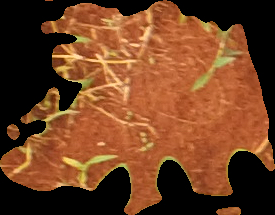soil: (1, 1, 273, 215)
